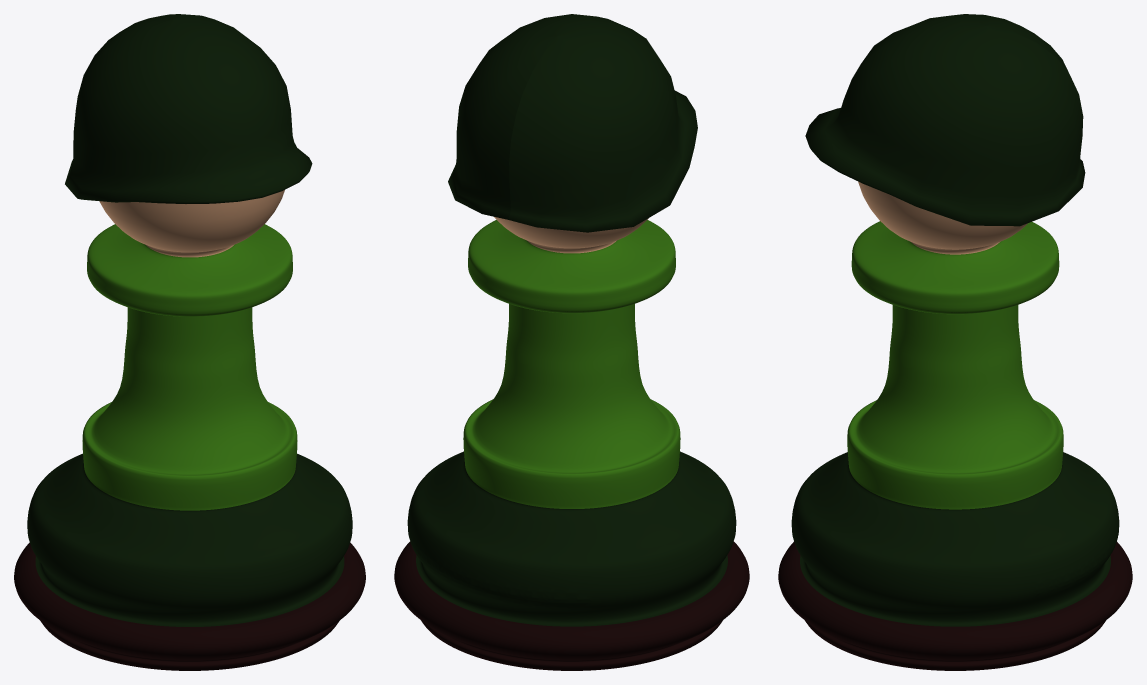
File: Peão Branco.FBX
3 views of the same model, side by side, from view 1: azimuth 30°, elevation 25°; view 2: azimuth 150°, elevation 25°; view 3: azimuth 270°, elevation 25° (orthographic).
Parts seen in each view (by area): view 1: revolvedSurface2, helmet; view 2: revolvedSurface2, helmet; view 3: revolvedSurface2, helmet.
Part boxes in pixels (x1=…): revolvedSurface2: x1=14, y1=190, x2=365, y2=670; helmet: x1=65, y1=14, x2=312, y2=203; revolvedSurface2: x1=394, y1=217, x2=749, y2=670; helmet: x1=448, y1=14, x2=697, y2=232; revolvedSurface2: x1=778, y1=181, x2=1132, y2=670; helmet: x1=805, y1=14, x2=1085, y2=226.
Bounding box in the file's own units: 39.27 × 71.34 × 39.27.
